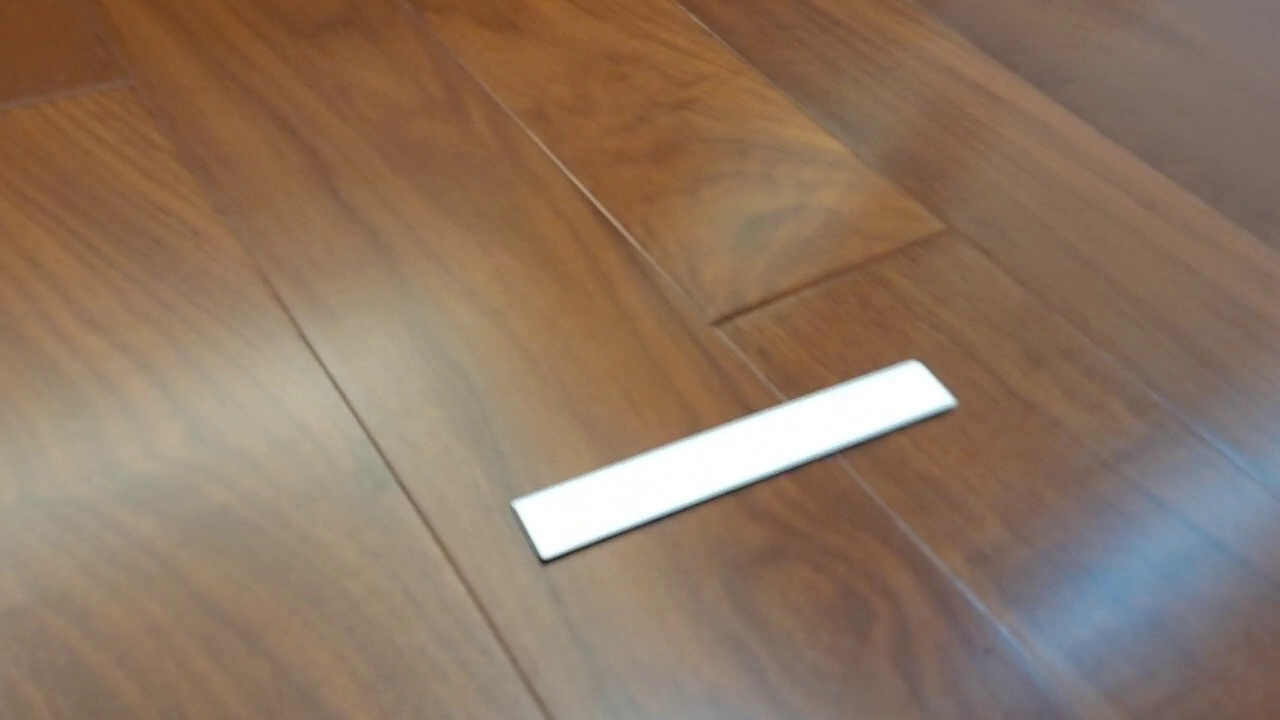ruler: (507, 356, 961, 566)
